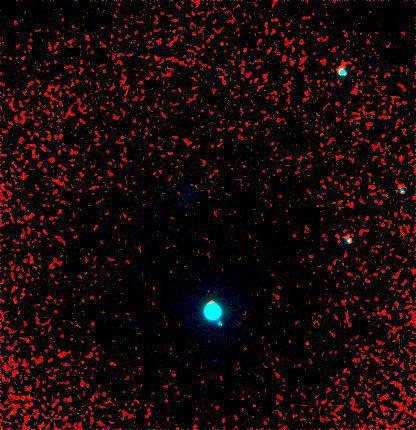star: (208, 172, 238, 202)
